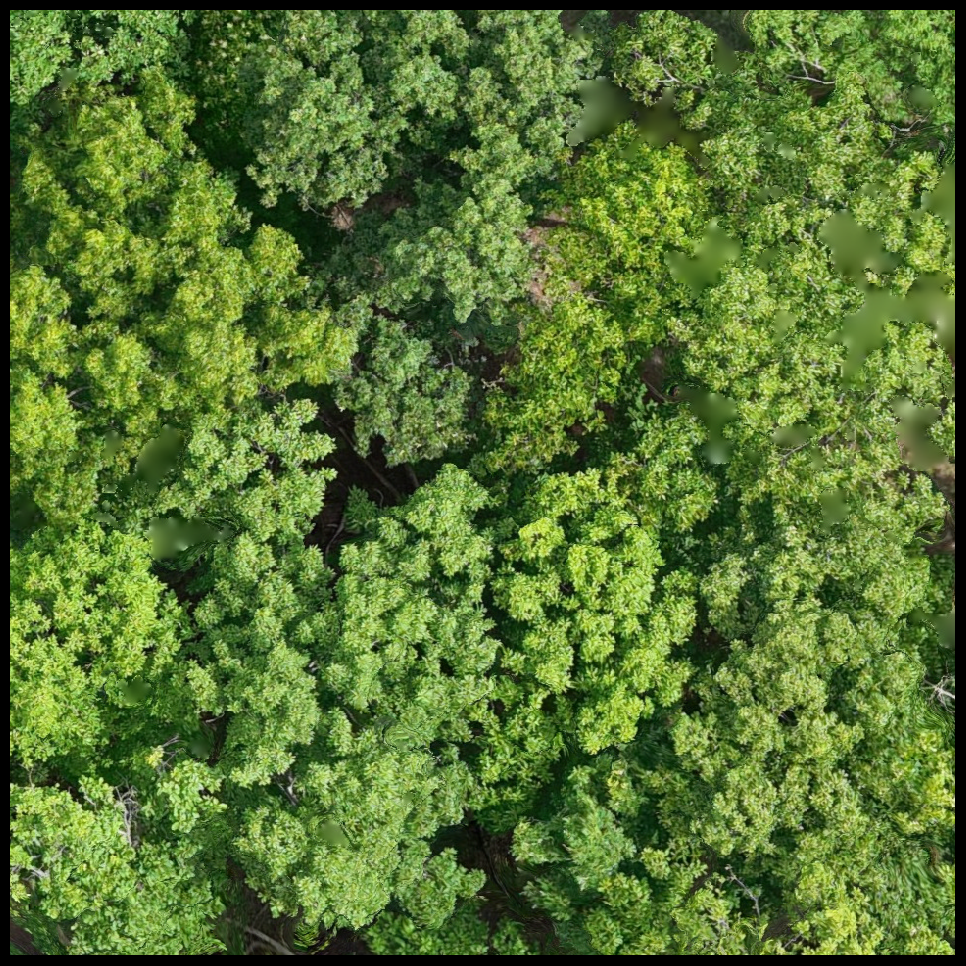Tree: (632, 13, 965, 466), (193, 476, 515, 929), (11, 107, 362, 518), (675, 472, 952, 859), (248, 6, 615, 289), (529, 139, 661, 450), (0, 529, 180, 754), (512, 488, 667, 738), (536, 761, 715, 965), (790, 752, 951, 965), (0, 798, 205, 935), (354, 306, 495, 458), (9, 6, 178, 93), (188, 13, 255, 140)
